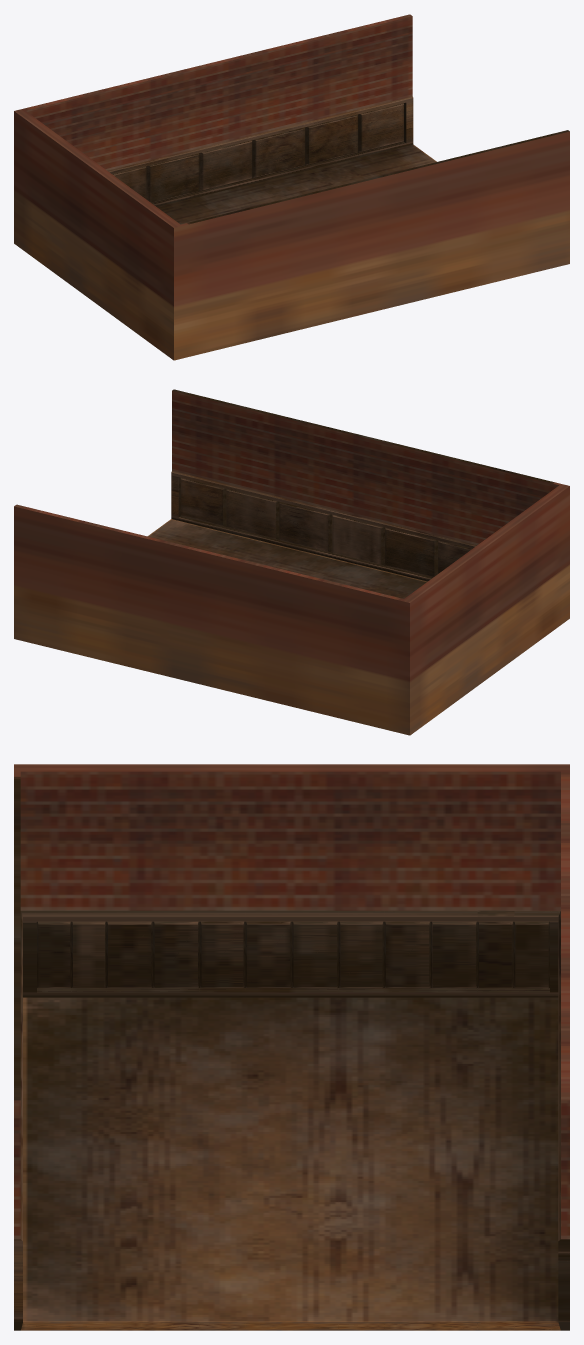
File: room 1.fbx
3 renders of one model, top to bottom at view 1: azimuth 30°, elevation 25°; view 2: azimuth 150°, elevation 25°; view 3: azimuth 270°, elevation 25°, orthographic. The views are drawn at different scales.
Parts seen in each view (by area): view 1: 立方体.107; view 2: 立方体.107; view 3: 立方体.107.
Part boxes in pixels (x1,y1,x2,y2): 立方体.107: [14, 14, 569, 360]; 立方体.107: [14, 389, 569, 735]; 立方体.107: [14, 764, 569, 1330].
Size of the model in its own units: 1317 by 421 by 921.
Materials: 1 (1 with a texture image).
